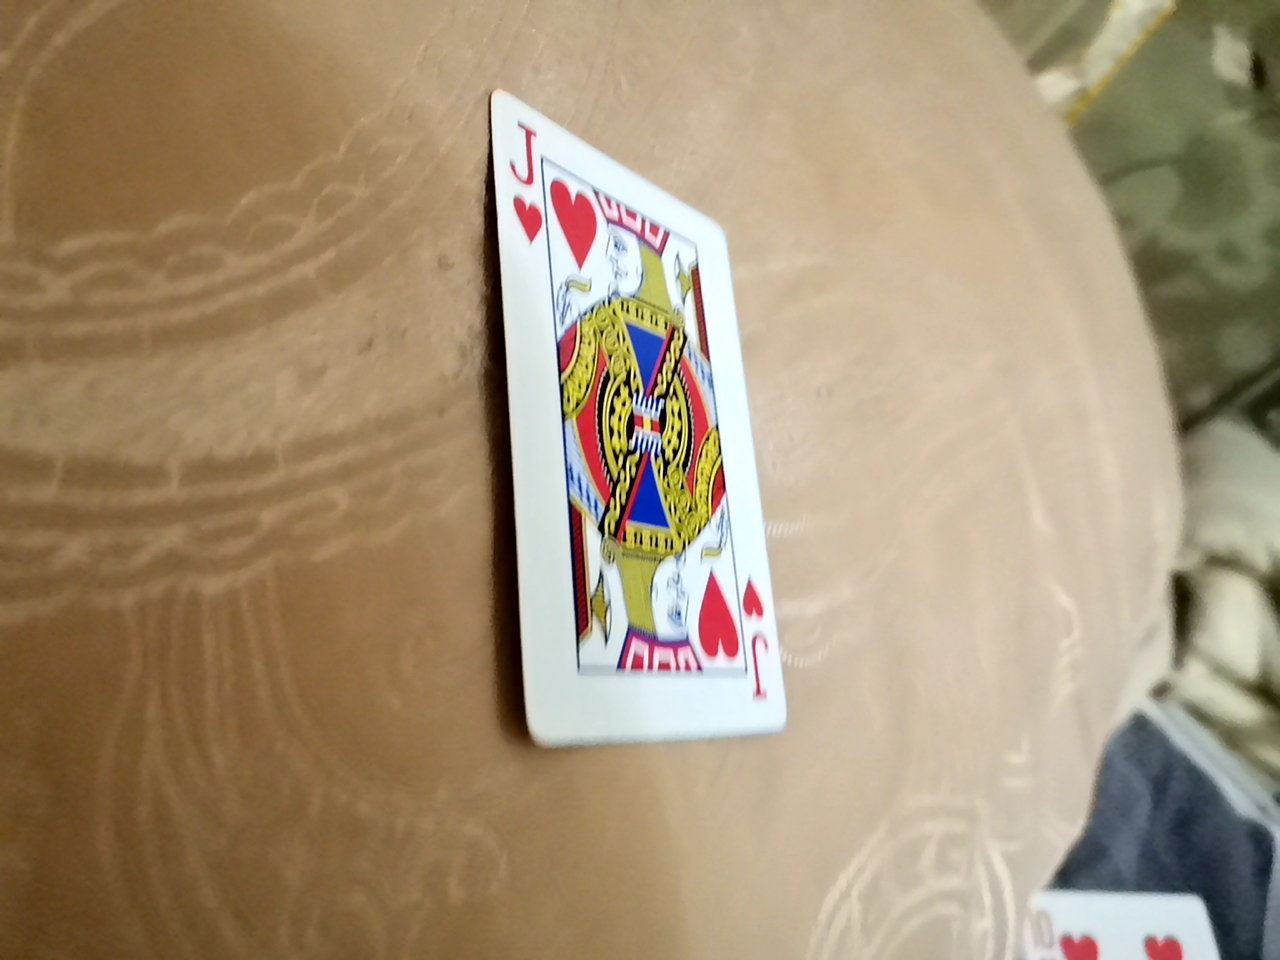hx j: (478, 150, 835, 768)
